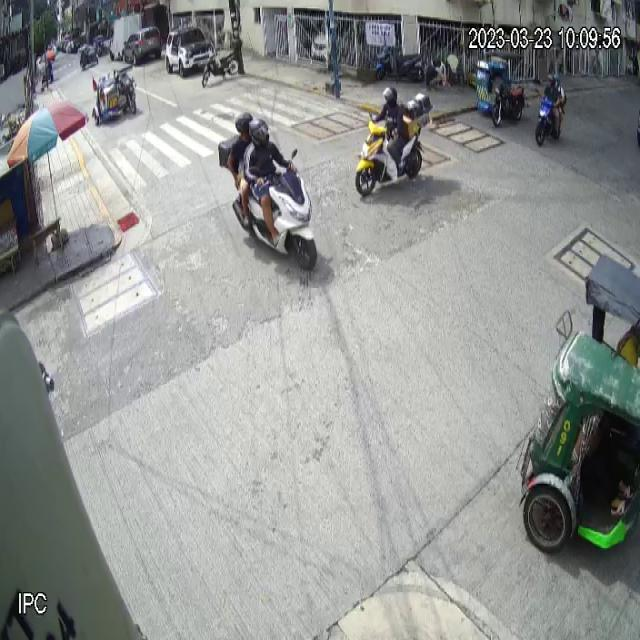Motorcycle: (218, 134, 318, 272), (355, 109, 426, 197)
Tricycle: (516, 255, 640, 554), (474, 52, 528, 126), (91, 65, 137, 127)
